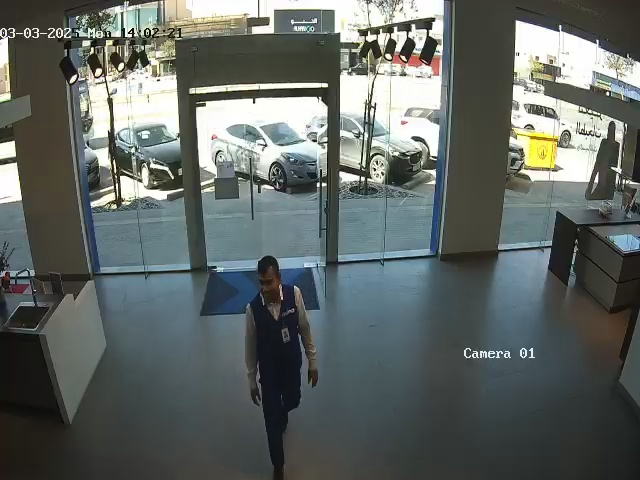employee: (244, 255, 319, 475)
